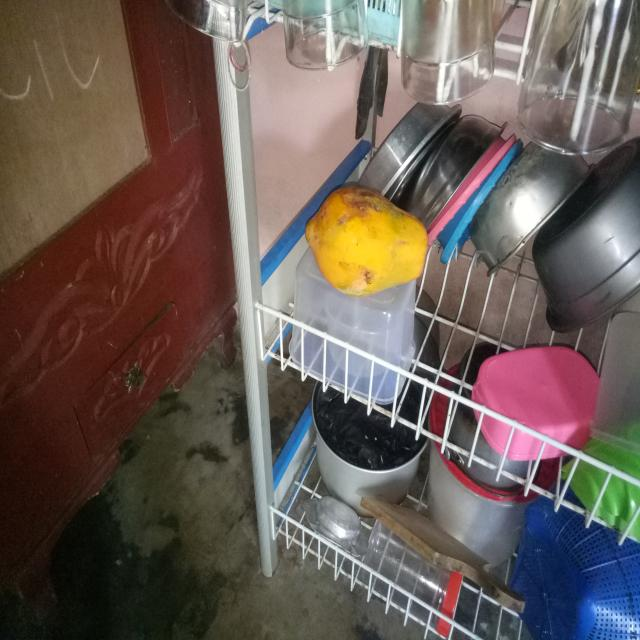Pepaya rippen: (305, 173, 431, 298)
